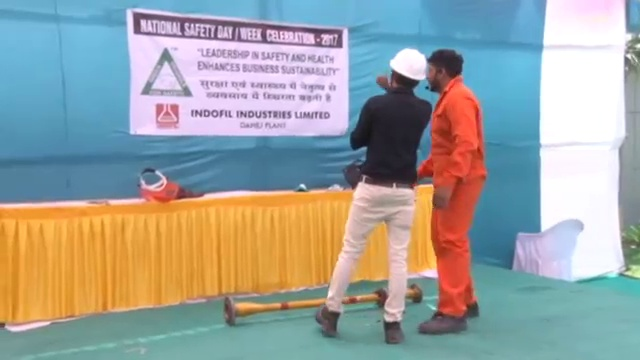helmet: (388, 46, 427, 81)
helmet_off: (428, 48, 463, 93)
helmet_on: (382, 46, 429, 97)
person: (324, 44, 434, 344), (416, 49, 488, 333)
